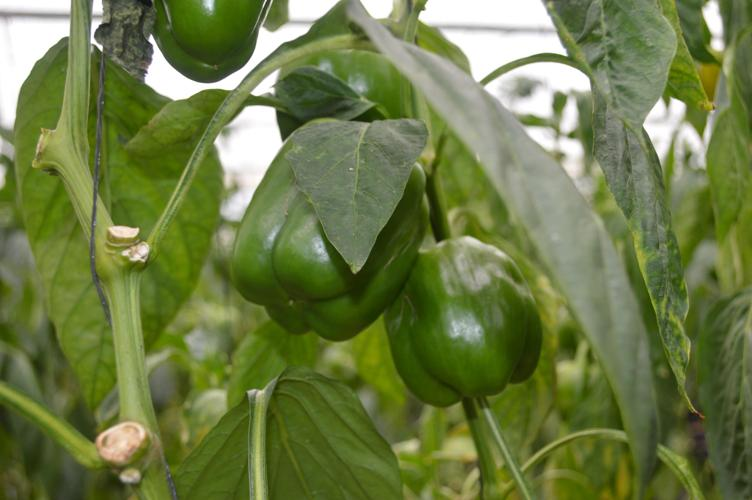BellPepper: (220, 147, 428, 339), (376, 237, 546, 417), (263, 44, 437, 142), (132, 1, 274, 99)
